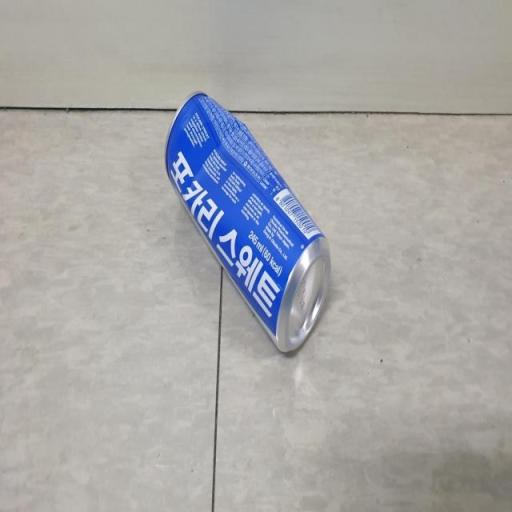metal: (155, 71, 346, 390)
